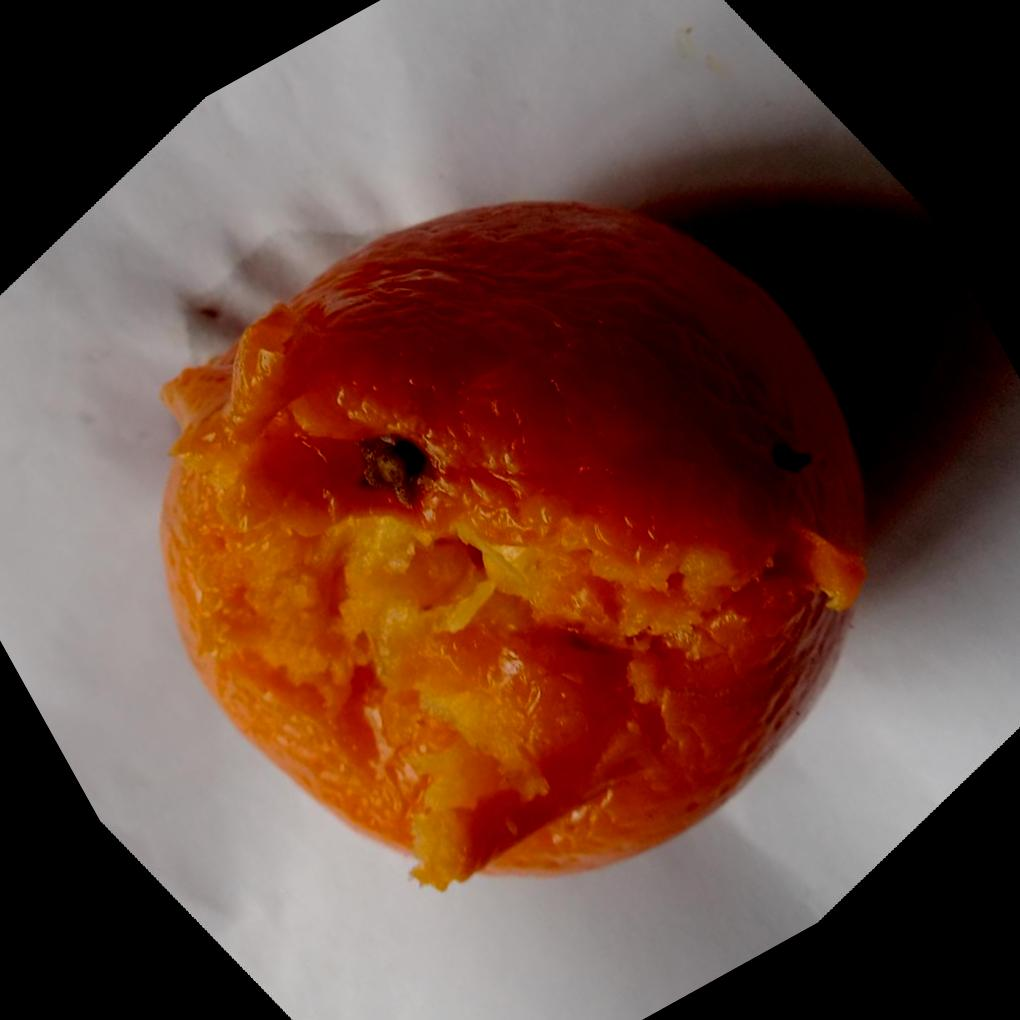FreshOrange: (157, 194, 866, 890)
